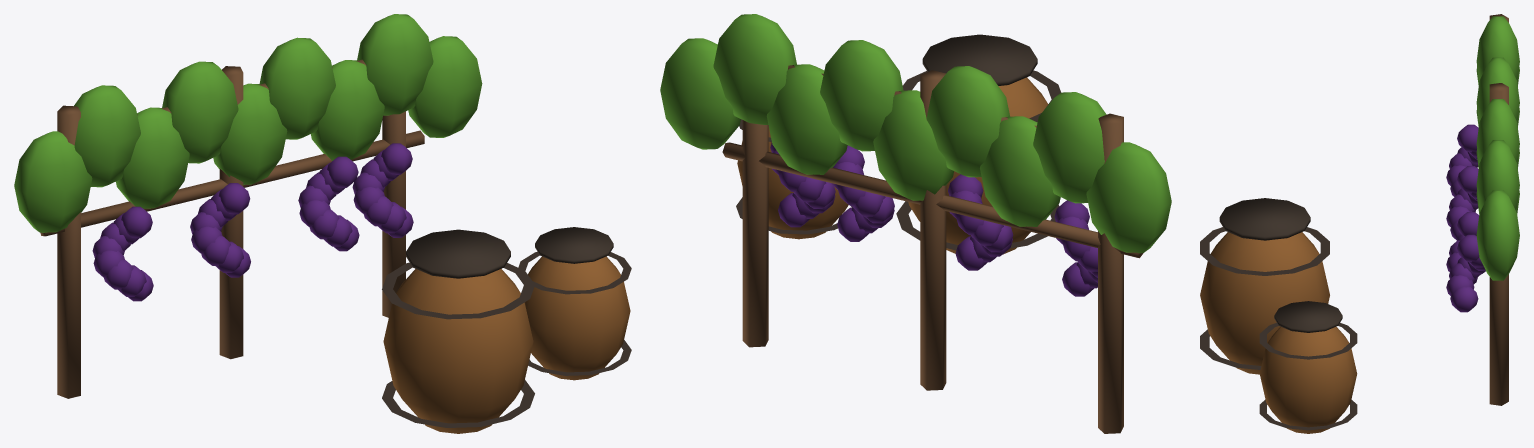
Rendered from resource_wine.fbx.
3 renders of one model, left to right at view 1: azimuth 30°, elevation 25°; view 2: azimuth 150°, elevation 25°; view 3: azimuth 270°, elevation 25°, orthographic. The views are drawn at different scales.
Visible parts, largest first — view 1: resource_wine_vine_01, resource_wine_wood#8a5a2c.001_03, resource_wine_grape_02, resource_wine_wood#6a4a30.002_00, resource_wine_hoop_04; view 2: resource_wine_vine_01, resource_wine_wood#6a4a30.002_00, resource_wine_grape_02, resource_wine_hoop_04, resource_wine_wood#8a5a2c.001_03; view 3: resource_wine_wood#8a5a2c.001_03, resource_wine_vine_01, resource_wine_hoop_04, resource_wine_grape_02, resource_wine_wood#6a4a30.002_00.
Part boxes in pixels (<box>): resource_wine_vine_01: <box>14,14,482,232</box>; resource_wine_wood#8a5a2c.001_03: <box>383,256,630,433</box>; resource_wine_grape_02: <box>92,143,413,301</box>; resource_wine_wood#6a4a30.002_00: <box>40,59,424,398</box>; resource_wine_hoop_04: <box>382,227,631,427</box>; resource_wine_vine_01: <box>660,14,1171,253</box>; resource_wine_wood#6a4a30.002_00: <box>722,65,1143,433</box>; resource_wine_grape_02: <box>770,142,1097,296</box>; resource_wine_hoop_04: <box>736,34,1060,250</box>; resource_wine_wood#8a5a2c.001_03: <box>737,77,1047,254</box>; resource_wine_wood#8a5a2c.001_03: <box>1200,232,1357,433</box>; resource_wine_vine_01: <box>1476,16,1519,280</box>; resource_wine_hoop_04: <box>1200,198,1357,430</box>; resource_wine_grape_02: <box>1446,124,1485,312</box>; resource_wine_wood#6a4a30.002_00: <box>1489,14,1508,405</box>.
Size of the model in its own units: 91.29 by 53 by 59.
